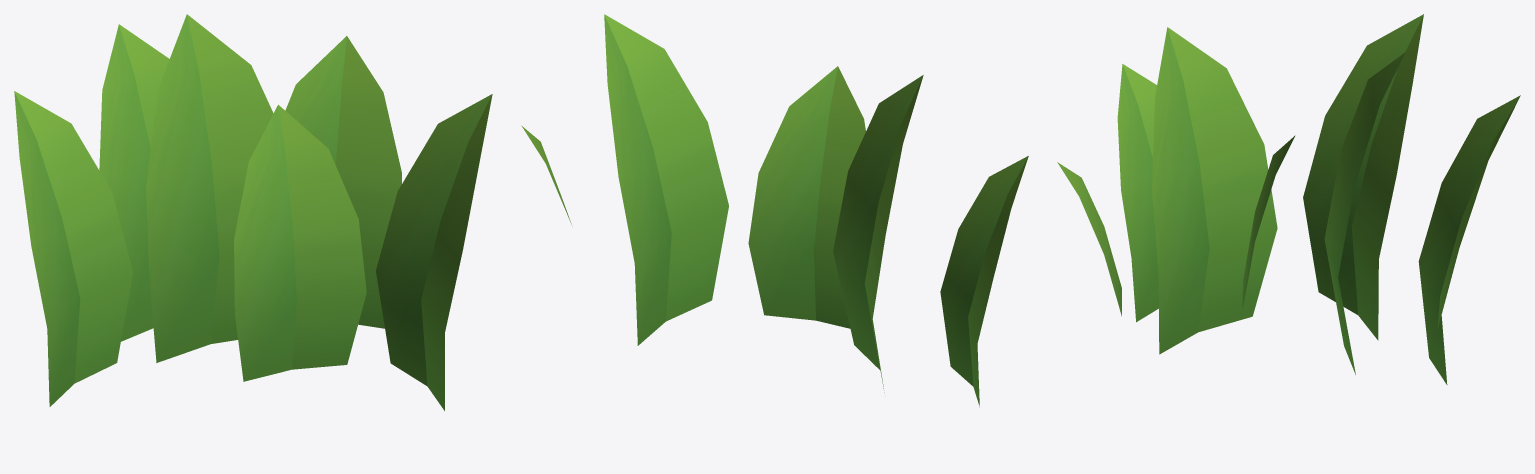
The model's file is grass_1_c_singlesided_color1.glb.
3 renders of one model, left to right at view 1: azimuth 30°, elevation 25°; view 2: azimuth 150°, elevation 25°; view 3: azimuth 270°, elevation 25°, orthographic. The views are drawn at different scales.
Visible parts, largest first — view 1: Grass_1_C_Singlesided_Color1; view 2: Grass_1_C_Singlesided_Color1; view 3: Grass_1_C_Singlesided_Color1.
Boxes of the visible parts, x1,y1,x2,y2 form: Grass_1_C_Singlesided_Color1: [14, 14, 492, 410]; Grass_1_C_Singlesided_Color1: [521, 14, 1028, 407]; Grass_1_C_Singlesided_Color1: [1057, 14, 1520, 384].
Size of the model in its own units: 0.7342 by 0.5803 by 0.7251.
1 material, 1 textured.
